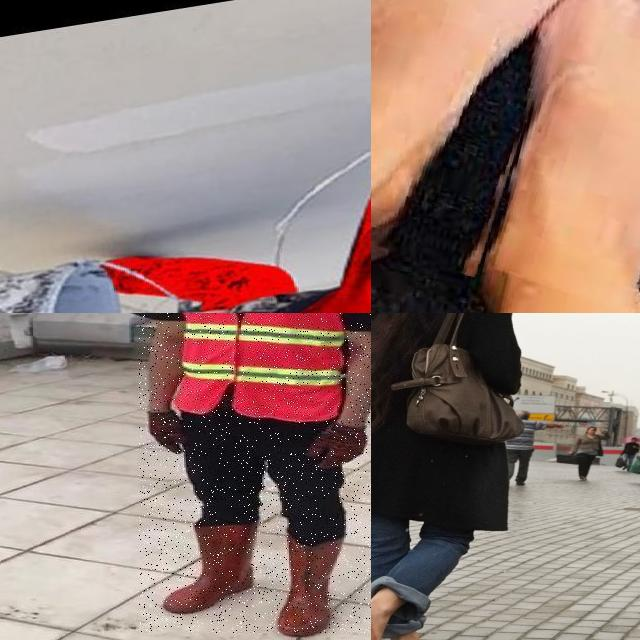Barefoots: (371, 0, 606, 279), (493, 0, 640, 313), (371, 602, 385, 640)
boots: (162, 524, 260, 613), (276, 538, 346, 637)
person: (138, 313, 371, 633)
vest: (173, 313, 347, 422)
